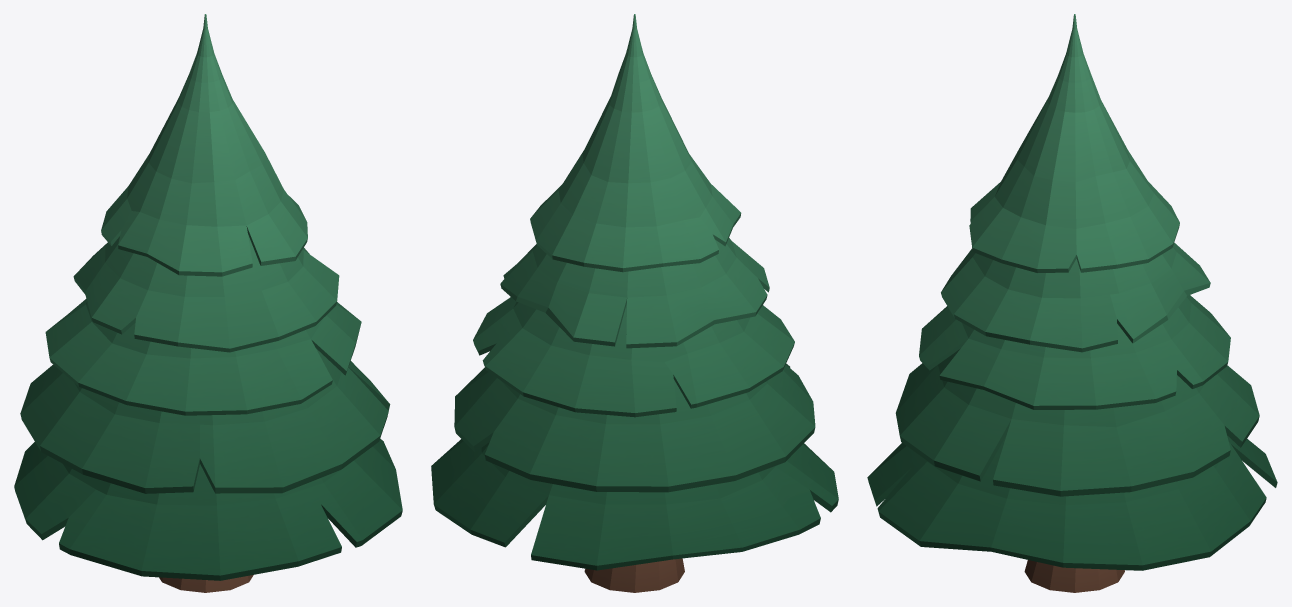
Rendered from drzewo2.fbx.
The picture shows the model from 3 angles, left to right: view 1: azimuth 30°, elevation 25°; view 2: azimuth 150°, elevation 25°; view 3: azimuth 270°, elevation 25°; orthographic projection.
Visible parts, largest first — view 1: drzewo2, Circle.013; view 2: drzewo2, Circle.013; view 3: drzewo2, Circle.013.
Boxes of the visible parts, bbox=[...] form: drzewo2: bbox=[14, 14, 402, 580]; Circle.013: bbox=[159, 575, 253, 592]; drzewo2: bbox=[431, 14, 838, 570]; Circle.013: bbox=[584, 558, 684, 592]; drzewo2: bbox=[867, 14, 1277, 570]; Circle.013: bbox=[1024, 560, 1124, 592].
Bounding box in the file's own units: 450 × 690 × 460.
